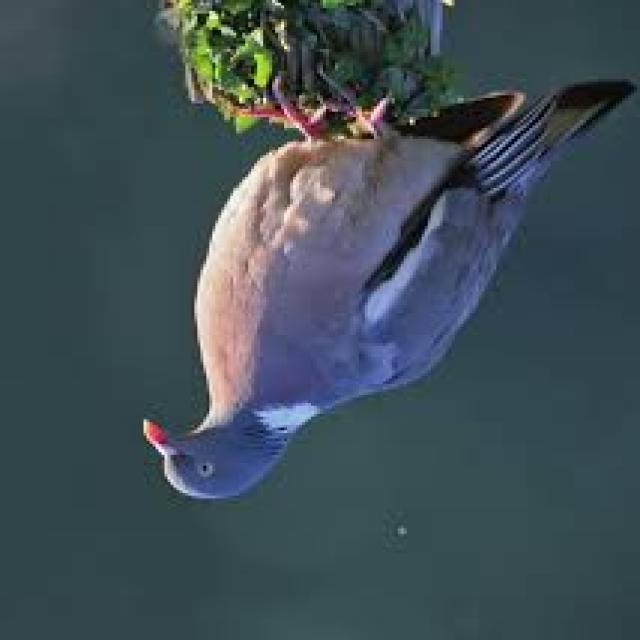pigeon: (110, 82, 640, 515)
